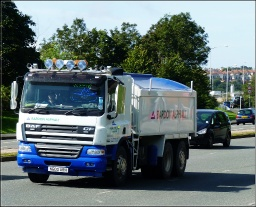car: (187, 107, 232, 150), (235, 107, 256, 127)
truck: (13, 58, 194, 180)
